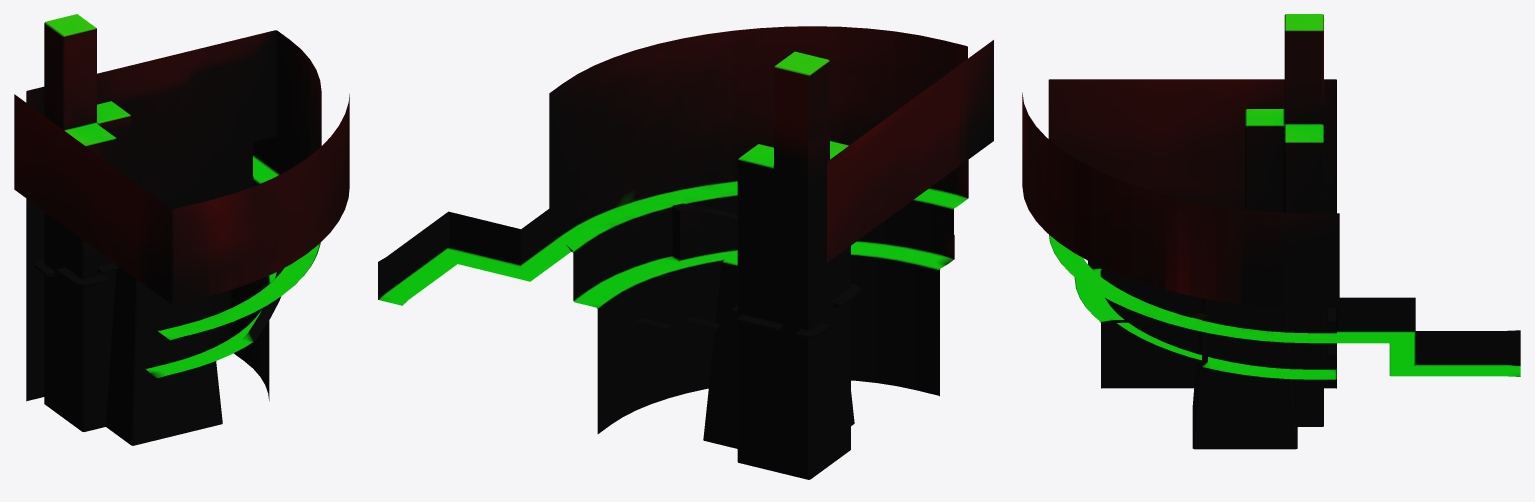
The model's file is castle_moat1.glb.
The picture shows the model from 3 angles, left to right: view 1: azimuth 30°, elevation 25°; view 2: azimuth 150°, elevation 25°; view 3: azimuth 270°, elevation 25°; orthographic projection. The views are drawn at different scales.
Parts seen in each view (by area): view 1: Moat; view 2: Moat; view 3: Moat.
Boxes of the visible parts, <box> form: Moat: <box>14,14,349,445</box>; Moat: <box>378,26,993,479</box>; Moat: <box>1022,14,1520,449</box>.
Size of the model in its own units: 29 by 32 by 38.
